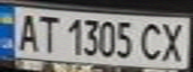0: (97, 17, 118, 59)
1: (63, 15, 84, 55)
3: (78, 16, 100, 57)
5: (115, 18, 139, 60)
A: (12, 10, 42, 53)
C: (136, 20, 166, 61)
T: (33, 11, 60, 54)
X: (157, 19, 190, 63)
